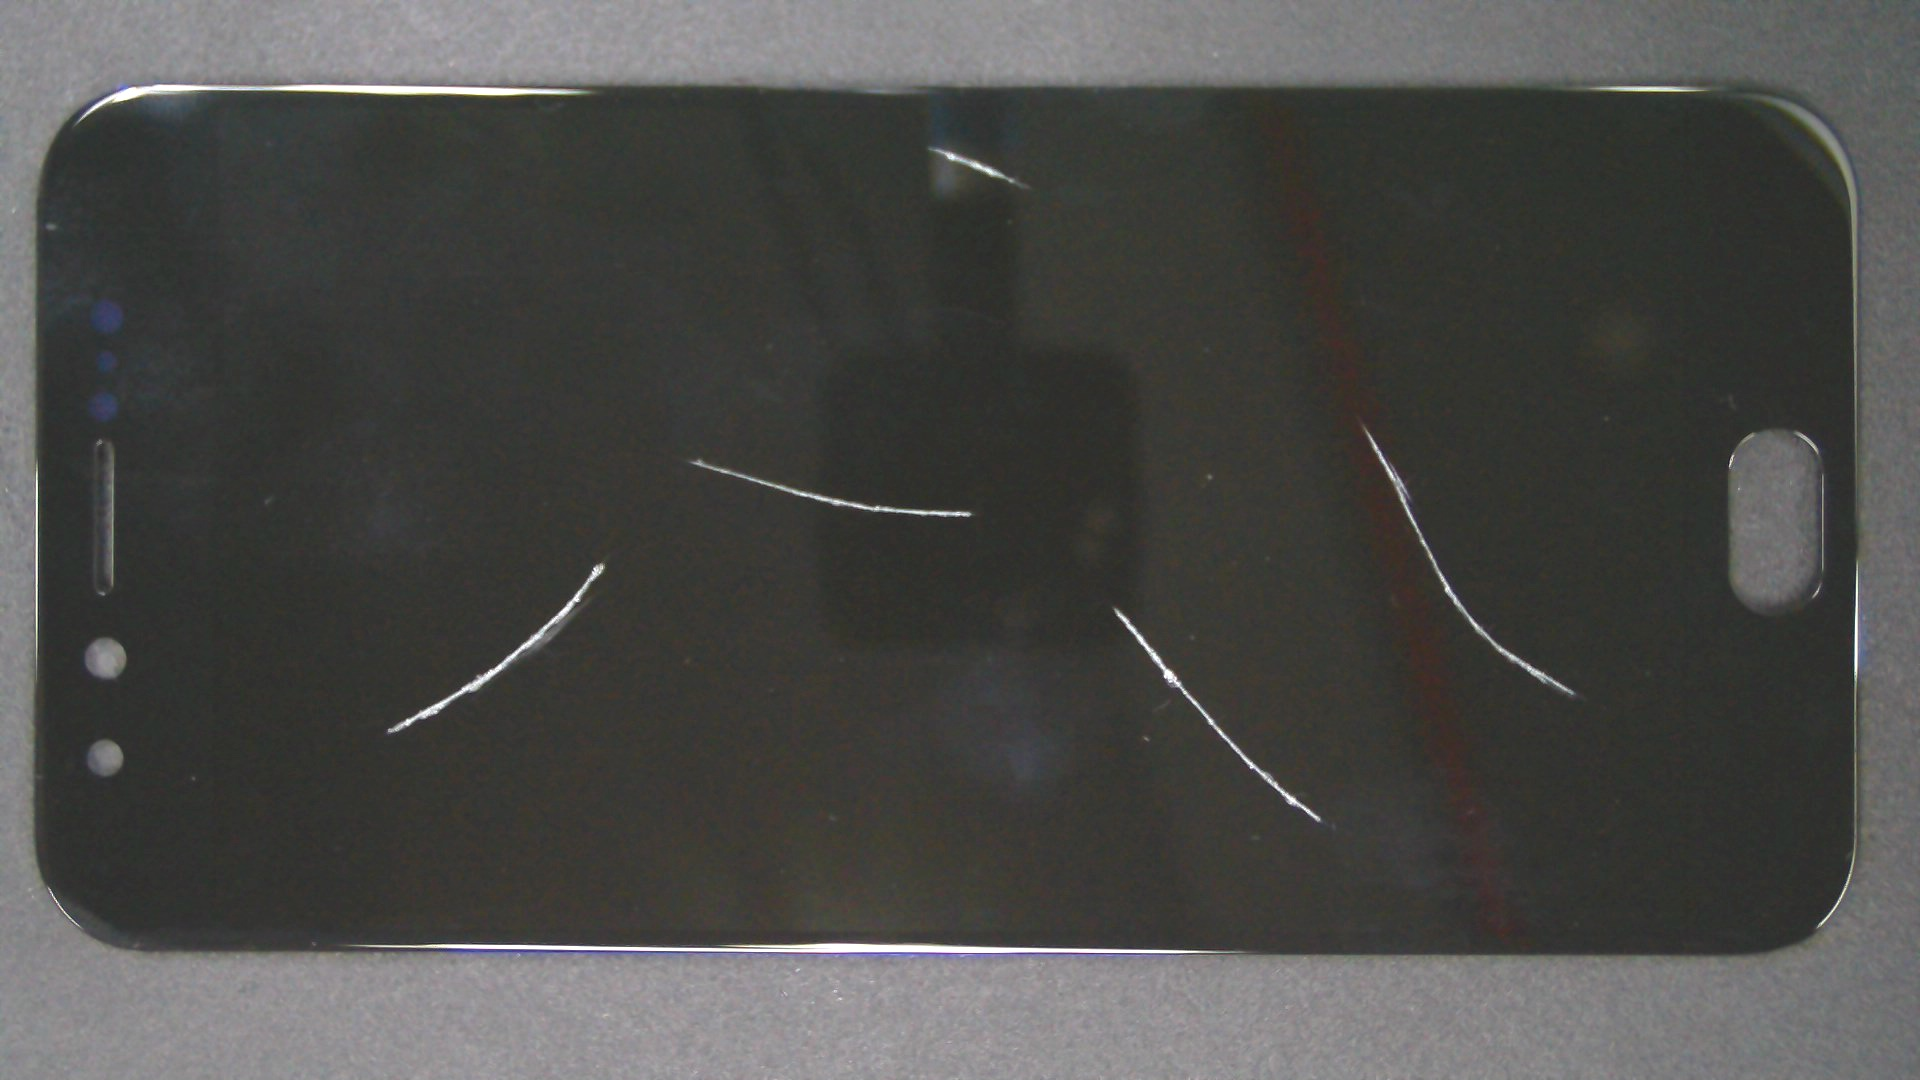oil: (556, 301, 1671, 911), (682, 211, 1920, 637), (302, 281, 906, 844), (349, 228, 1044, 690), (464, 73, 1394, 219)
